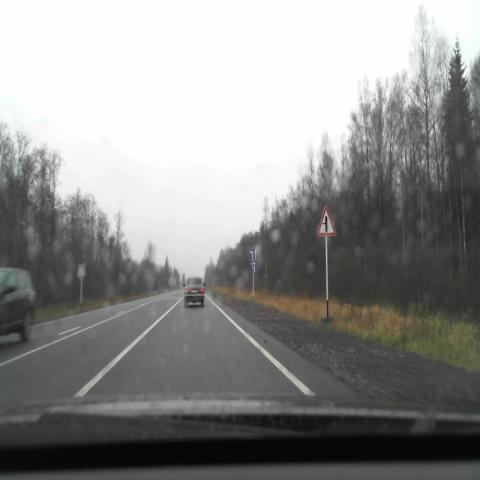2_3_3: (316, 204, 336, 237)
